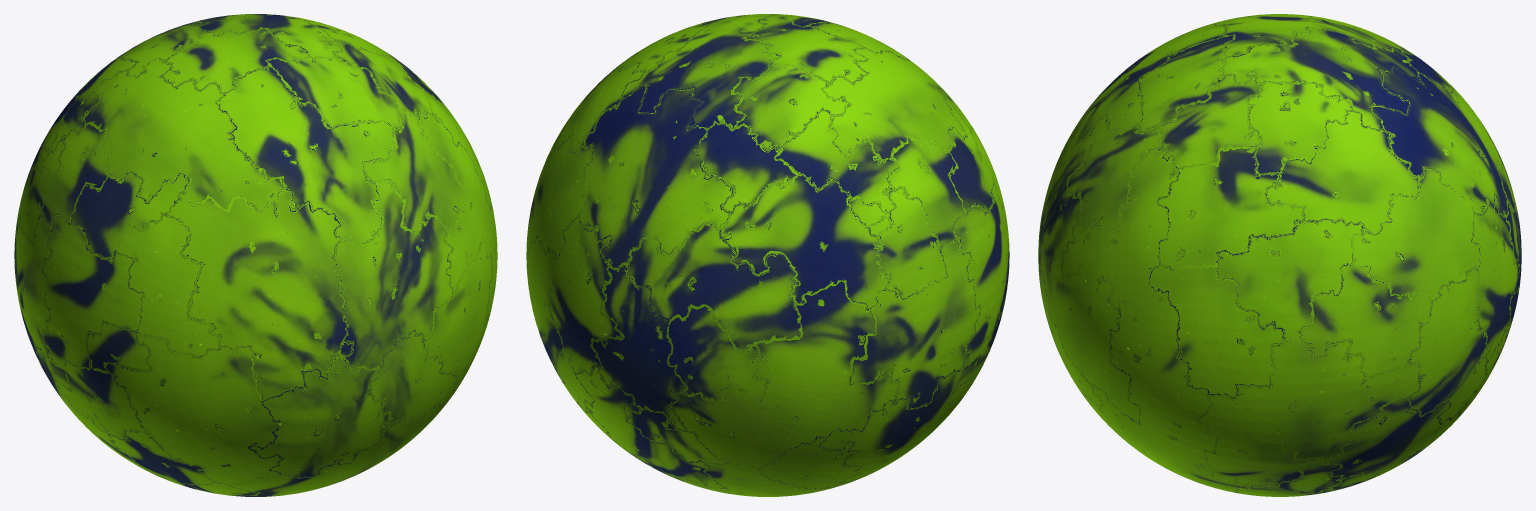
3 renders of one model, left to right at view 1: azimuth 30°, elevation 25°; view 2: azimuth 150°, elevation 25°; view 3: azimuth 270°, elevation 25°, orthographic.
Bounding box in the file's own units: 2 × 2 × 2.
Materials: 1 (1 with a texture image).
